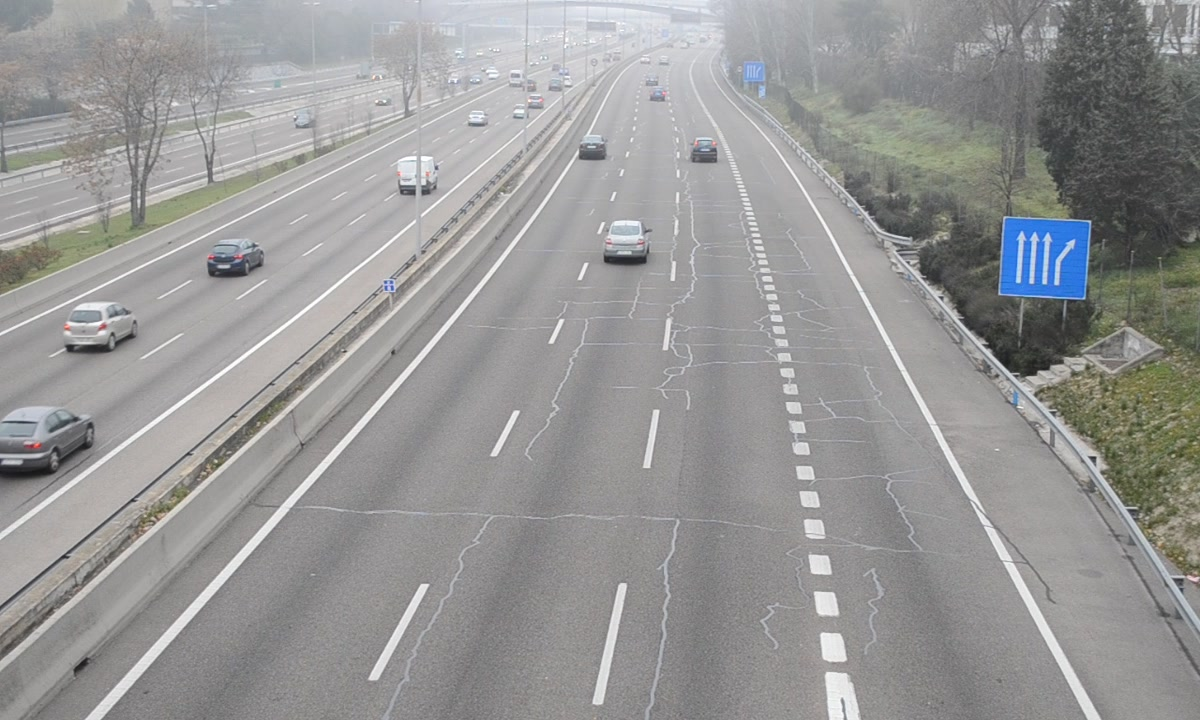car: (606, 220, 648, 259), (690, 137, 719, 164), (578, 135, 606, 161)
